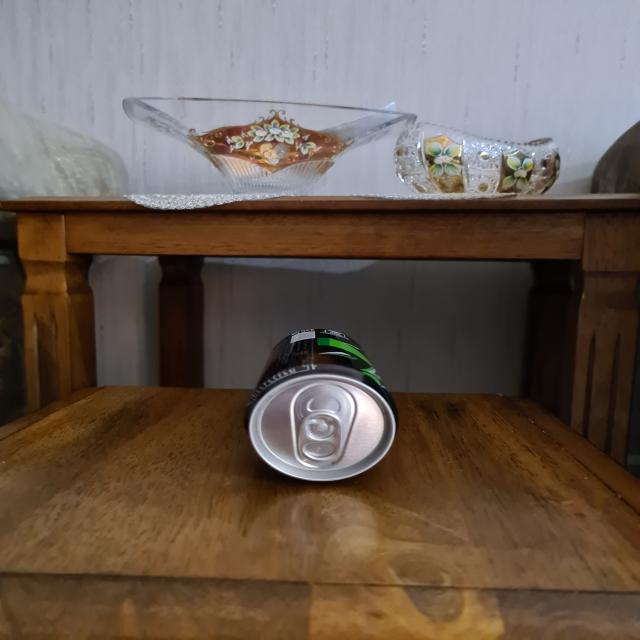non-organic waste: (238, 321, 404, 483)
